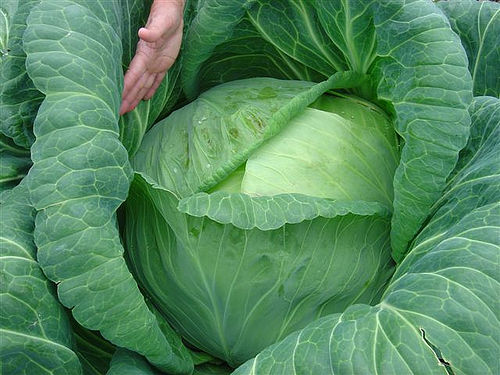cabbage: (126, 79, 404, 368)
